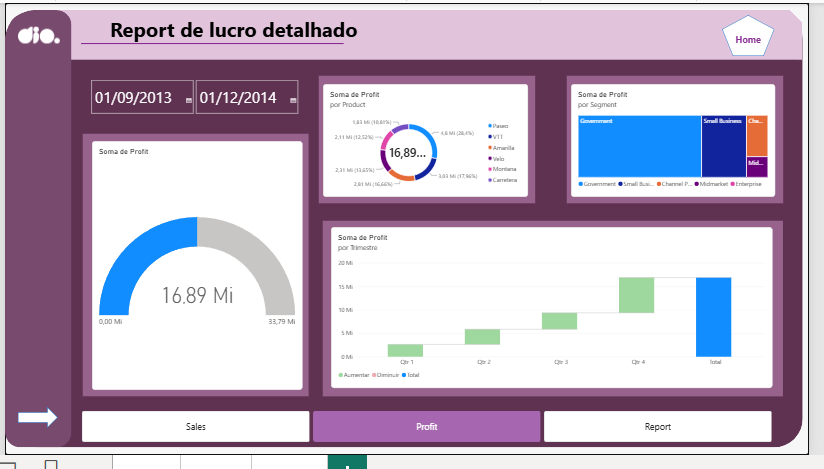

This screenshot's page, from the dashboard's own definition file:
{"tool":"powerbi","page":{"name":"Profit","canvas":[1920,1080],"ordinal":1},"visuals":[{"type":"shape","box":[11.4,17,1894.4,1045.2],"z":0},{"type":"shape","box":[110.8,17,1795,119.3],"z":500},{"type":"shape","box":[0,17,159.1,1045.2],"z":1000},{"type":"slicer","fields":{"Values":["financials.Date"]},"box":[198.7,180.4,520,102.5],"z":1000},{"type":"shape","box":[31.1,965.3,95,50],"z":3000},{"type":"image","box":[30,28,100,96],"z":5000},{"type":"shape","box":[181.5,83.1,627.8,26.7],"z":7000},{"type":"textbox","box":[250.1,29.6,604.3,67.1],"z":8000},{"type":"shape","box":[740,165.8,535,322.5],"z":9000},{"type":"shape","box":[177.3,302.7,557.5,645],"z":10000},{"type":"shape","box":[750,510.8,1117.5,437.5],"z":11000},{"type":"shape","box":[1332.5,165.8,535,322.5],"z":13000},{"type":"donutChart","fields":{"Category":["financials.Product"],"Y":["Sum(financials.Profit)"]},"box":[759.4,193.3,490,270],"z":14000},{"type":"treemap","fields":{"Group":["financials.Segment"],"Values":["Sum(financials.Profit)"]},"box":[1351.9,193.3,487.5,270],"z":15000},{"type":"waterfallChart","fields":{"Category":["financials.Date.Variation.Hierarquia de datas.Trimestre"],"Y":["Sum(financials.Profit)"]},"box":[779.4,535.8,1055,385],"z":16000},{"type":"gauge","fields":{"Y":["Sum(financials.Profit)"]},"box":[207.9,330.2,502.5,595],"z":16001},{"type":"pageNavigator","box":[184,974.9,1648.7,74.1],"z":16002},{"type":"shape","box":[1712.1,27.5,125.4,97.8],"z":16003},{"type":"actionButton","box":[1712.1,33.6,125.4,94.8],"z":16004}]}

Visuals, with their boxes on the page's 1920x1080 design canvas (x1, y1, x2, y2). These are canvas units, not pixel positions in the 824x469 screenshot, which may show the page scaled, cropped or inside an application window:
shape: bbox=(11, 17, 1906, 1062)
shape: bbox=(111, 17, 1906, 136)
shape: bbox=(0, 17, 159, 1062)
slicer - financials.Date: bbox=(199, 180, 719, 283)
shape: bbox=(31, 965, 126, 1015)
image: bbox=(30, 28, 130, 124)
shape: bbox=(182, 83, 809, 110)
textbox: bbox=(250, 30, 854, 97)
shape: bbox=(740, 166, 1275, 488)
shape: bbox=(177, 303, 735, 948)
shape: bbox=(750, 511, 1868, 948)
shape: bbox=(1332, 166, 1868, 488)
donutChart - financials.Product x Sum(financials.Profit): bbox=(759, 193, 1249, 463)
treemap - financials.Segment x Sum(financials.Profit): bbox=(1352, 193, 1839, 463)
waterfallChart - financials.Date.Variation.Hierarquia de datas.Trimestre x Sum(financials.Profit): bbox=(779, 536, 1834, 921)
gauge - Sum(financials.Profit): bbox=(208, 330, 710, 925)
pageNavigator: bbox=(184, 975, 1833, 1049)
shape: bbox=(1712, 28, 1838, 125)
actionButton: bbox=(1712, 34, 1838, 128)
